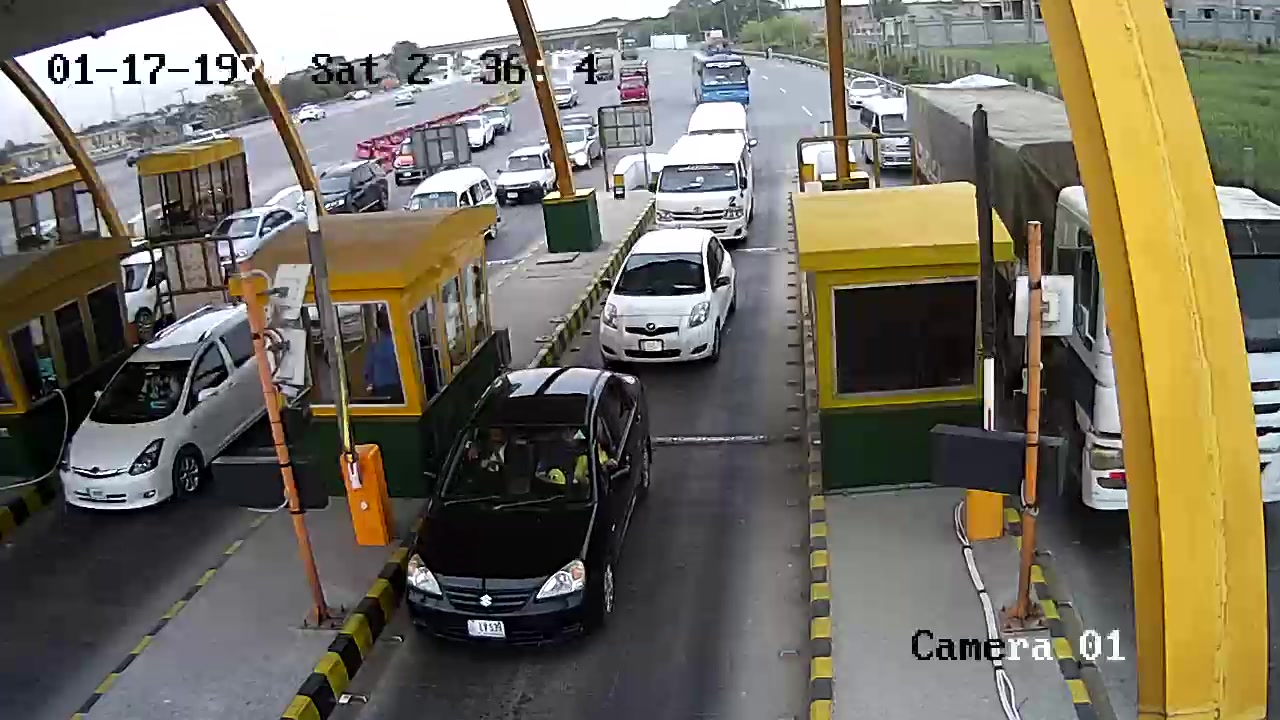F1: (390, 372, 671, 641), (597, 231, 748, 372)
